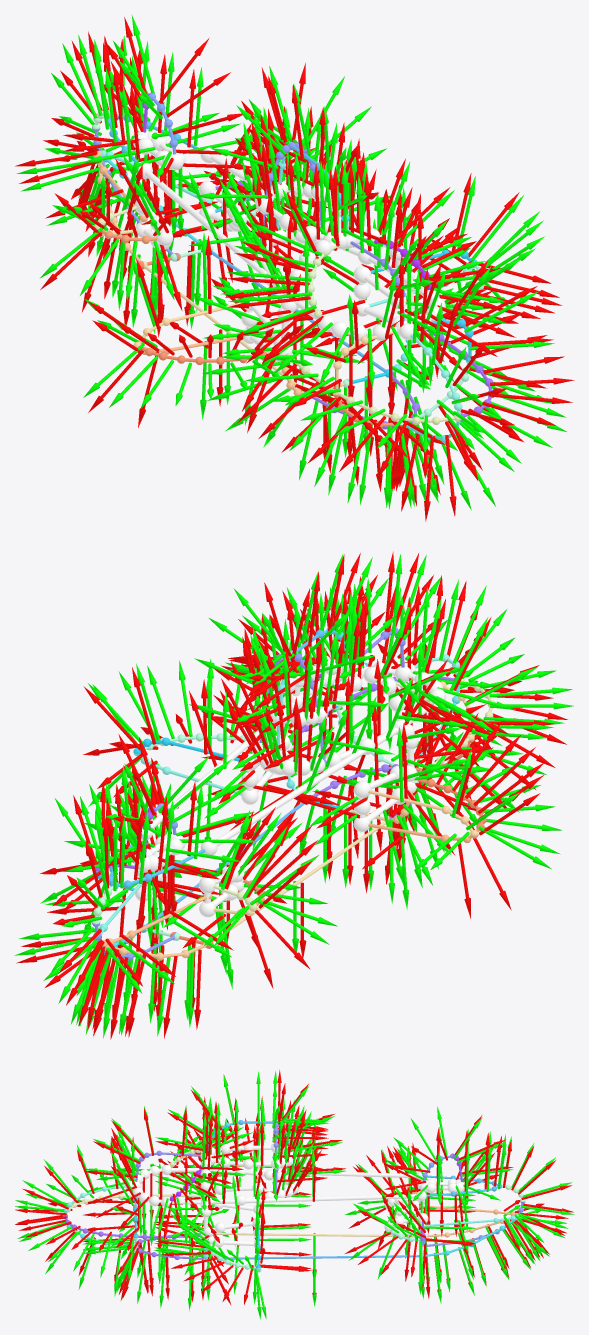
File: scaffolds3d_submarine.gltf
3 renders of one model, top to bottom at view 1: azimuth 30°, elevation 25°; view 2: azimuth 150°, elevation 25°; view 3: azimuth 270°, elevation 25°, orthographic. The views are drawn at different scales.
Bounding box in the file's own units: 0.6368 × 0.4534 × 1.05.
